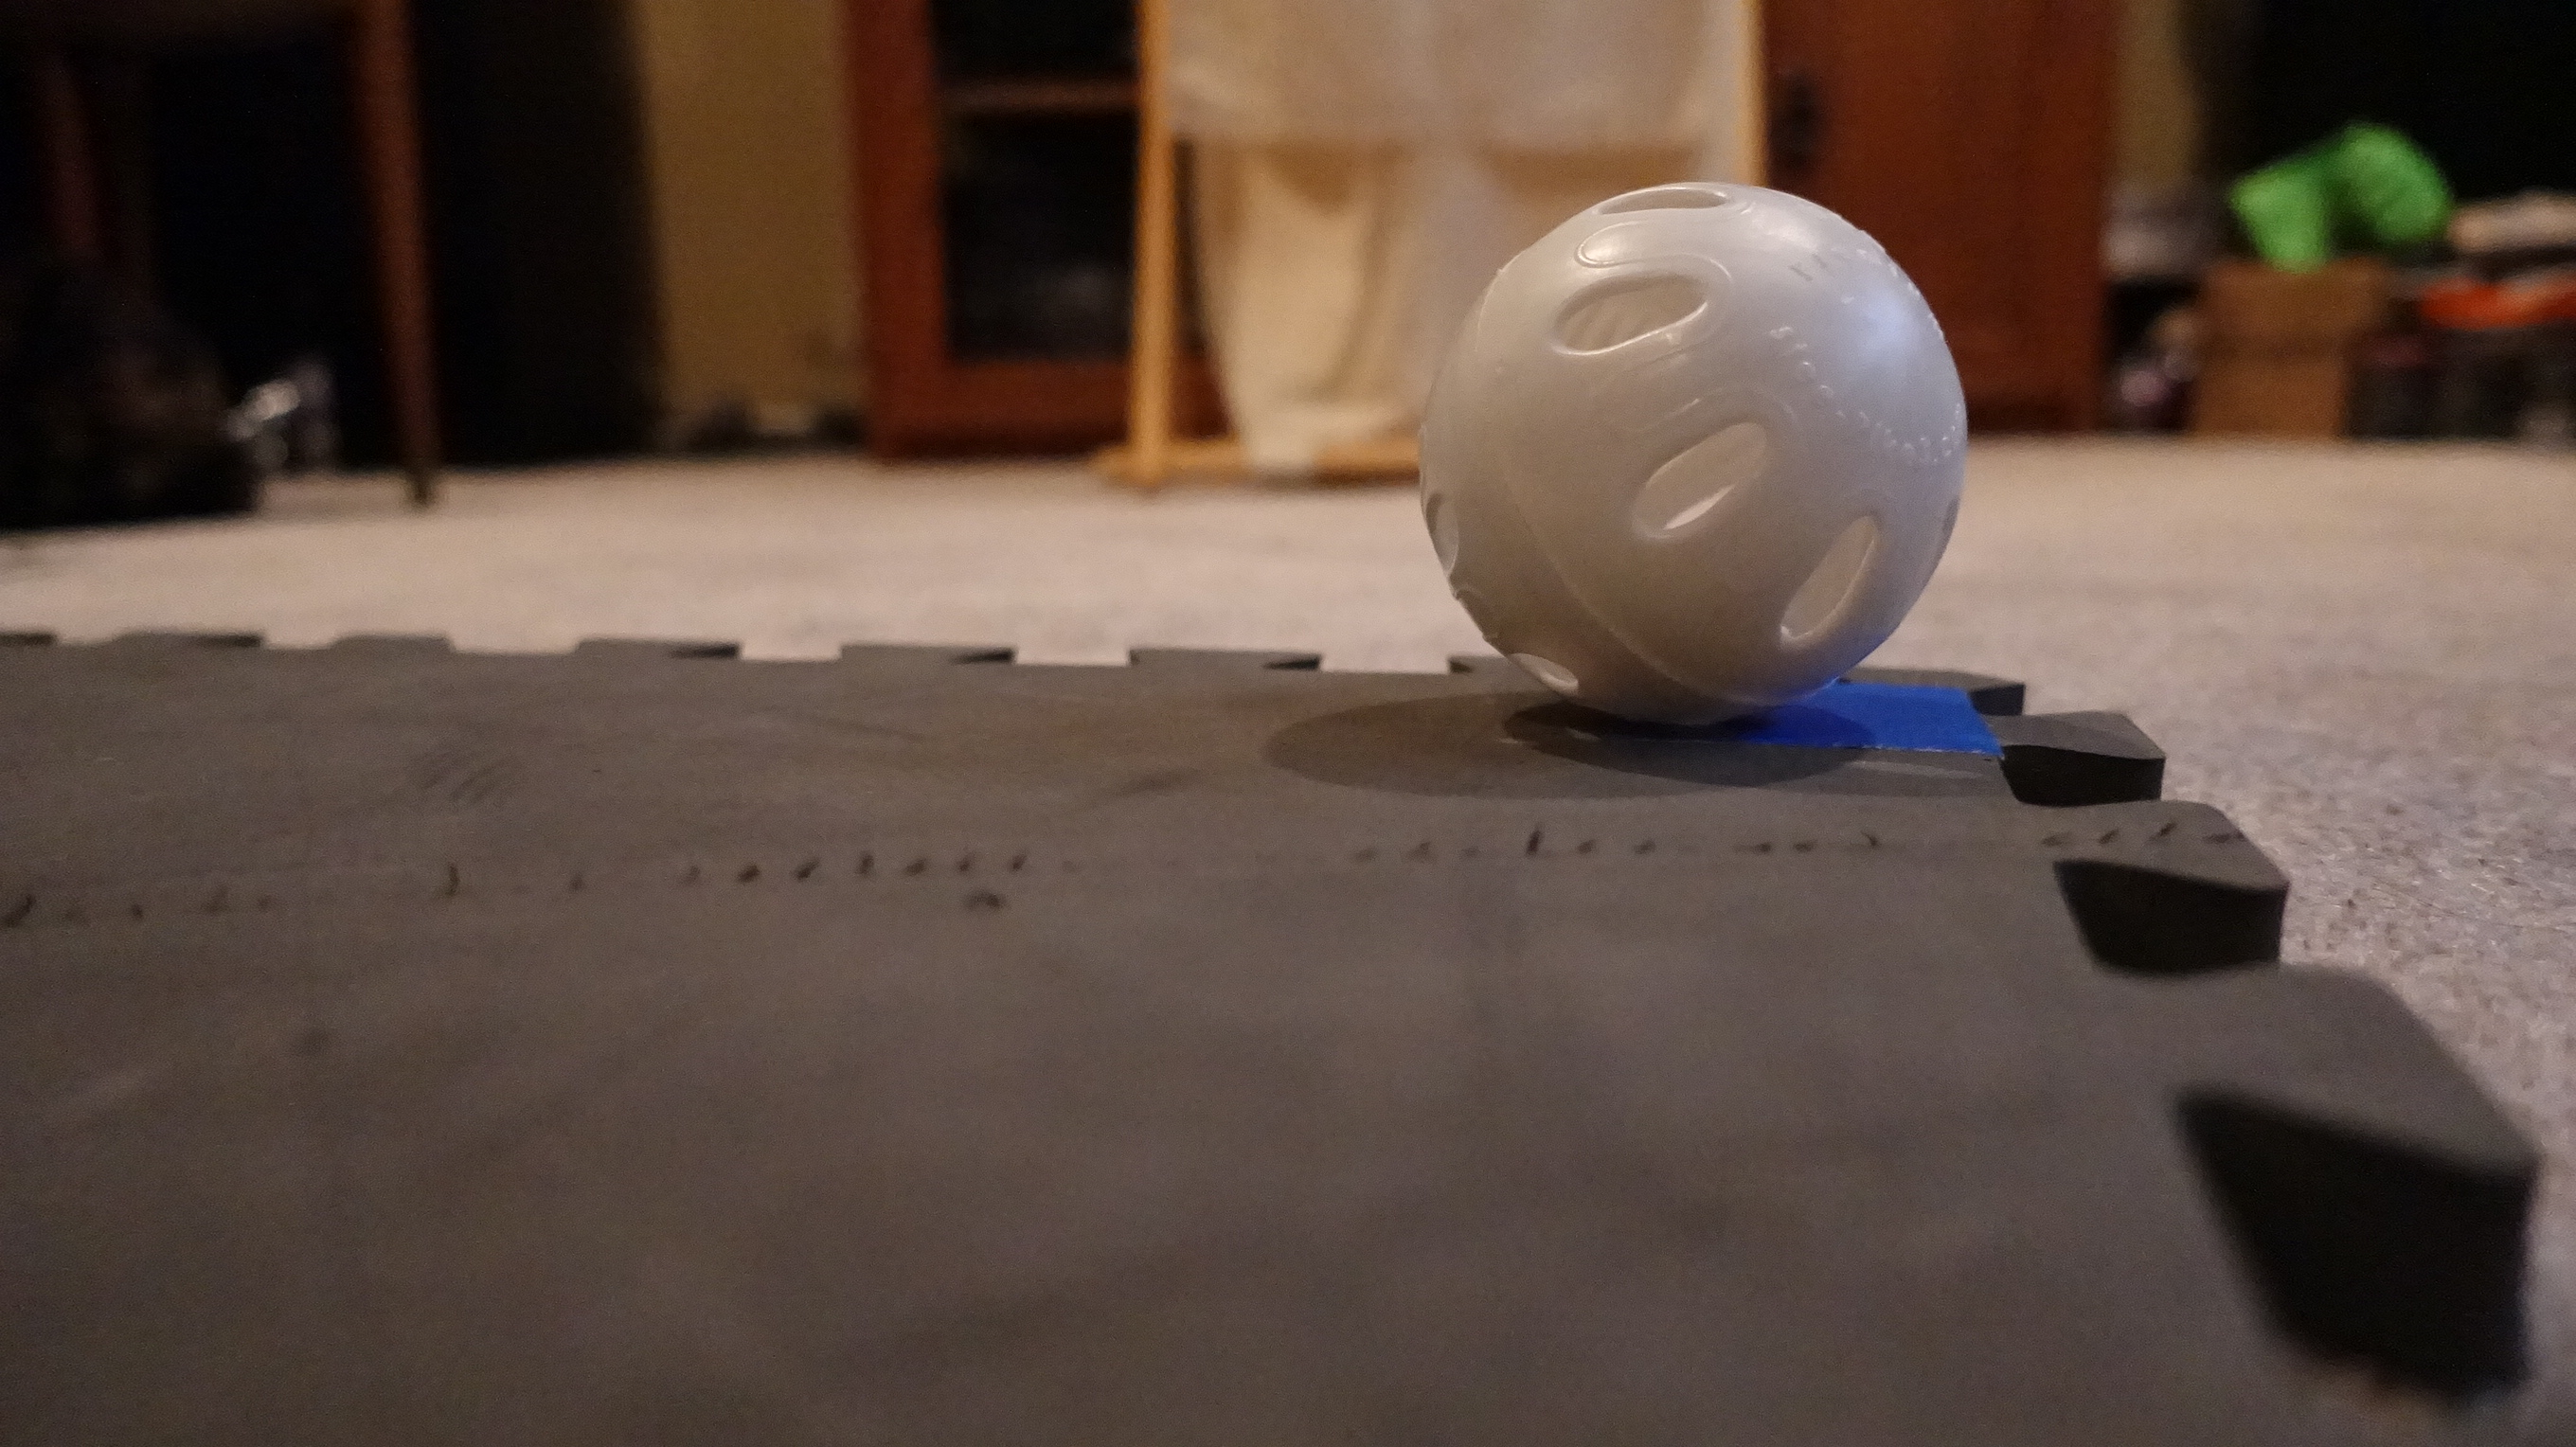silver: (1380, 177, 1978, 739)
